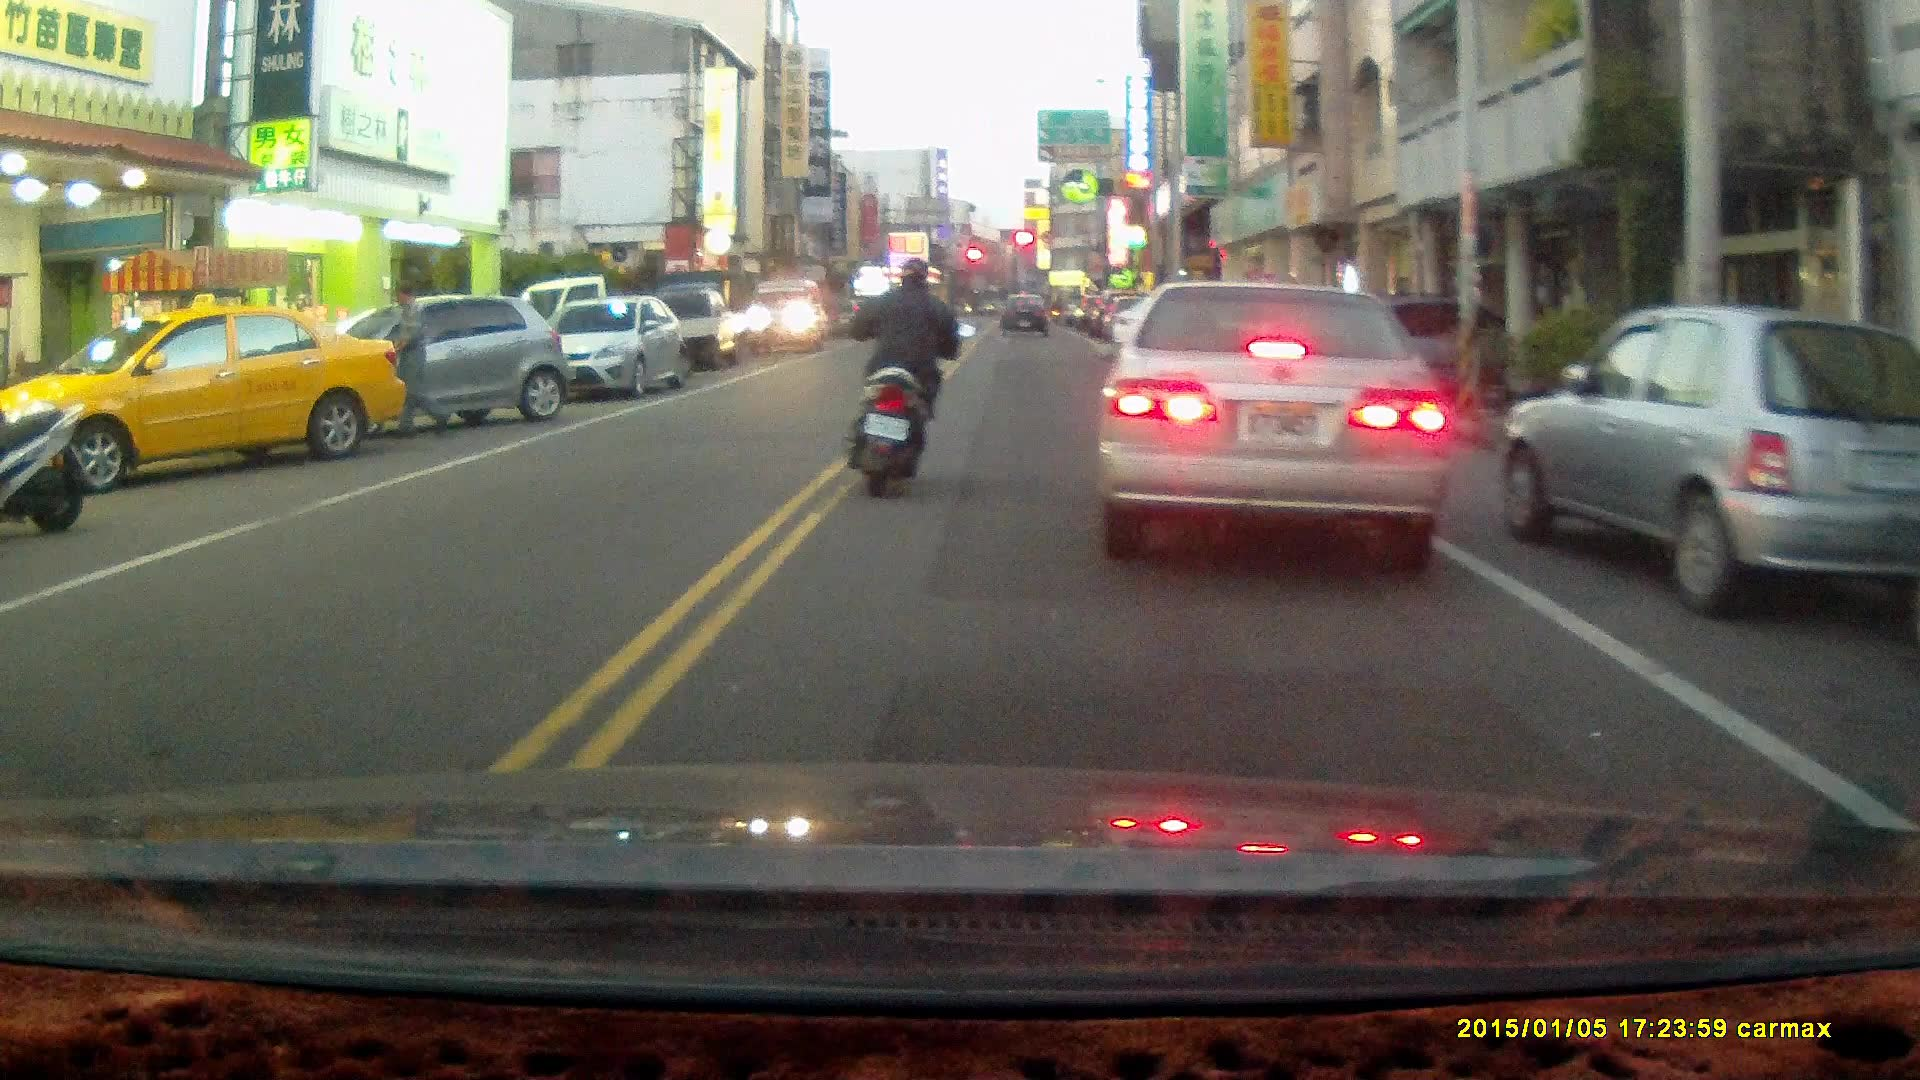pedestrian: (383, 279, 450, 443)
rider: (846, 254, 975, 499)
vehicle: (1505, 304, 1920, 619), (1090, 277, 1458, 562), (1, 302, 412, 498), (296, 291, 572, 426), (550, 296, 694, 400), (686, 284, 779, 377), (746, 279, 830, 354)
